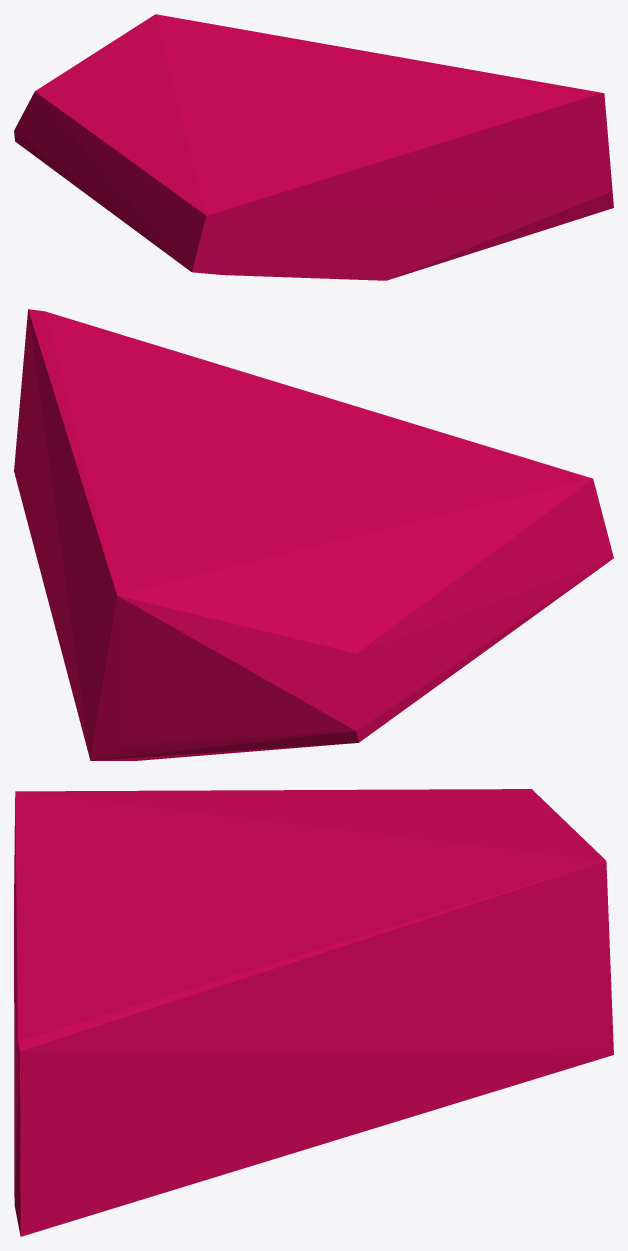
The model's file is shoulder-roll-housing-mirror_convex_piece_002.obj.
3 renders of one model, top to bottom at view 1: azimuth 30°, elevation 25°; view 2: azimuth 150°, elevation 25°; view 3: azimuth 270°, elevation 25°, orthographic. The views are drawn at different scales.
Size of the model in its own units: 0.0827 by 0.0248 by 0.0666.
